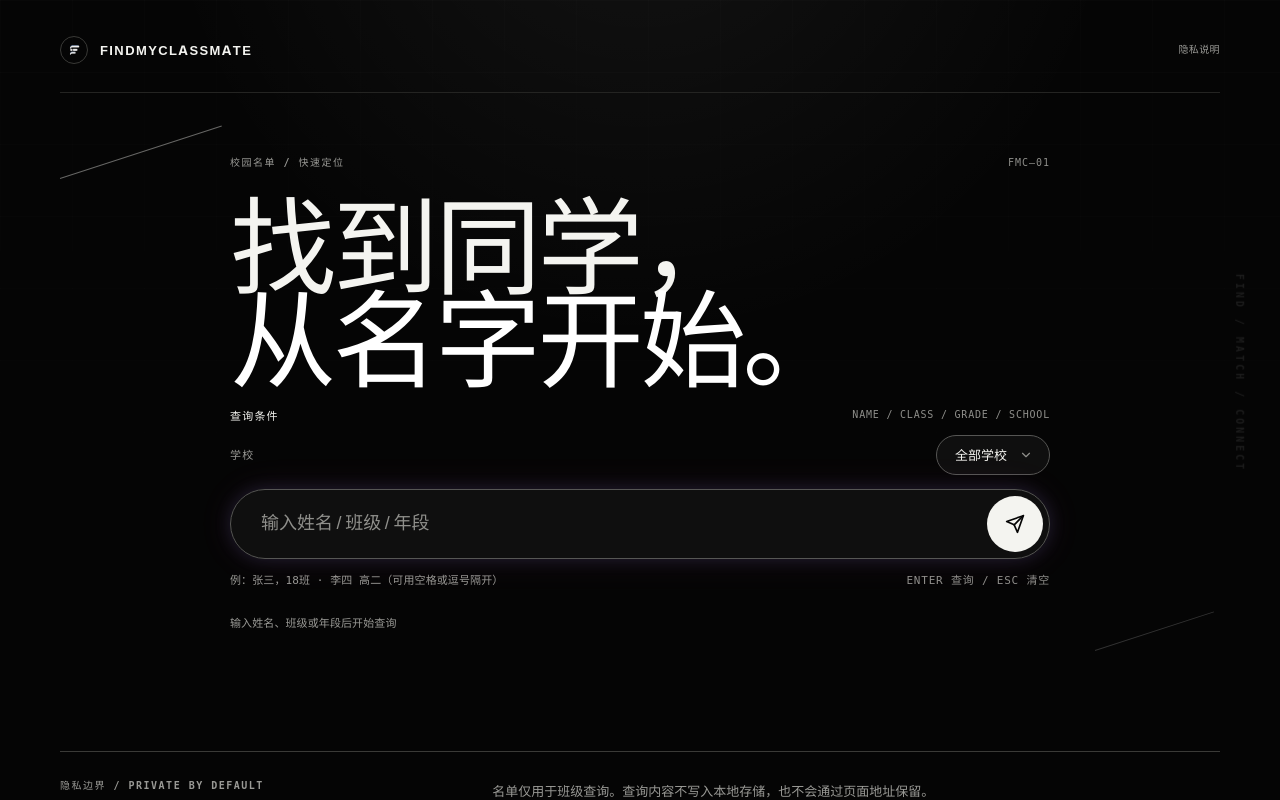
Scenario: App 学校选择器 › 渲染全校 + 各校选项（来自 schoolsApi）
The image size is (1280, 800).
// 点击触发 → 面板出现四个选项（全校 + 三校）
Click the button "全部学校" at (993, 455), box [936, 435, 1050, 475]
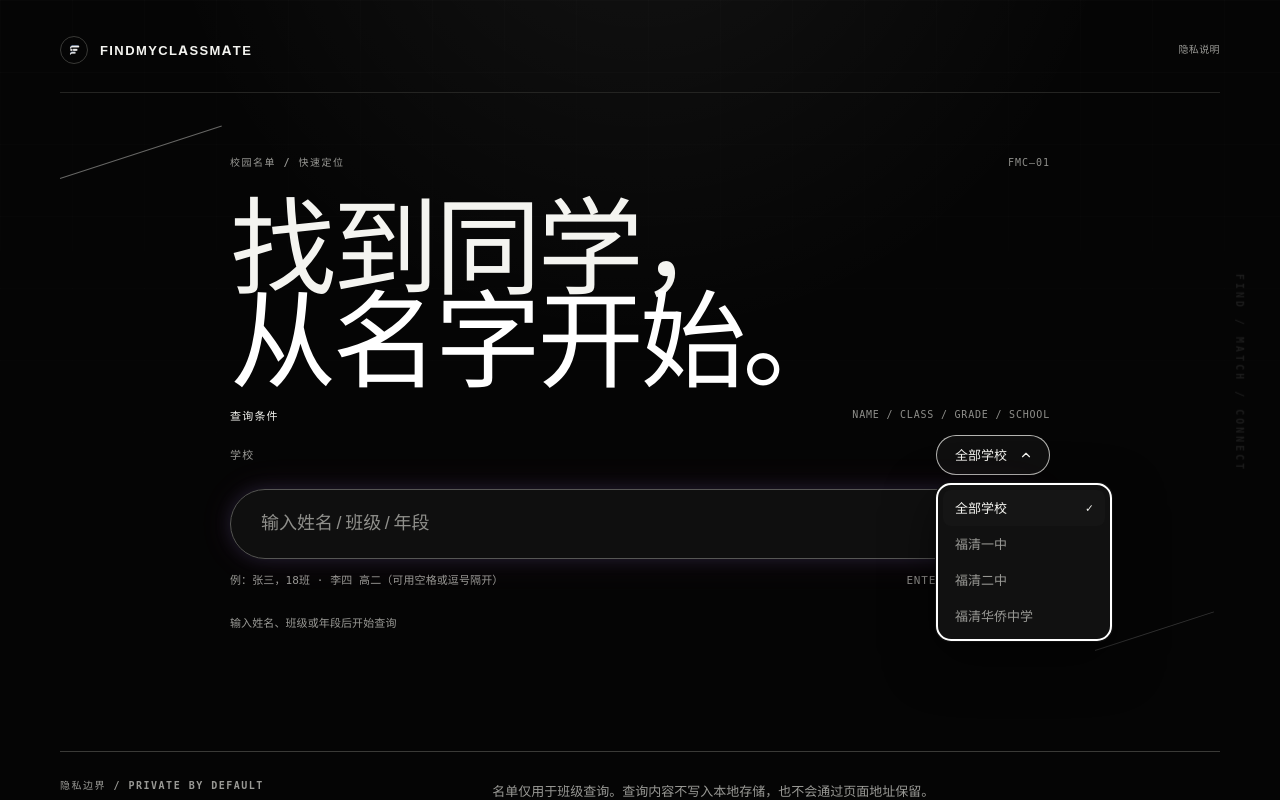
Check: the number of options is 4, box [943, 490, 1105, 526]; [955, 536, 1007, 552]; [955, 572, 1007, 588]; [955, 608, 1033, 624]
Check: the option "全部学校 ✓" is shown, box [943, 490, 1105, 526]
Check: the option "福清一中" is shown, box [955, 536, 1007, 552]
